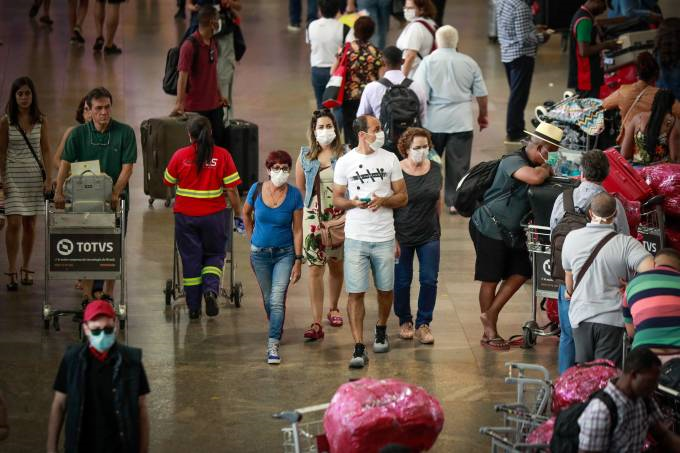with_mask: (80, 301, 122, 352), (353, 113, 386, 153), (403, 129, 432, 167), (265, 151, 293, 188), (310, 111, 338, 147)
without_mask: (89, 95, 114, 126), (11, 81, 35, 109)
